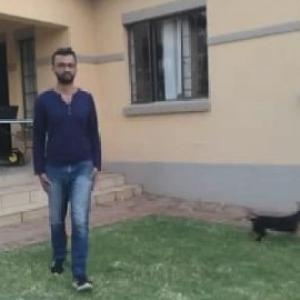follow: (35, 52, 106, 270)
